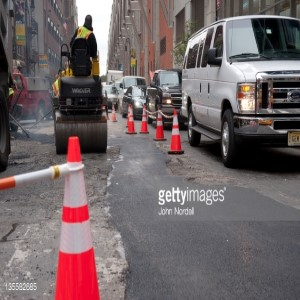traffic cone: (53, 135, 99, 300), (167, 109, 184, 156), (153, 110, 168, 142), (125, 106, 137, 135), (139, 106, 149, 135), (125, 103, 131, 129), (110, 102, 117, 122)
